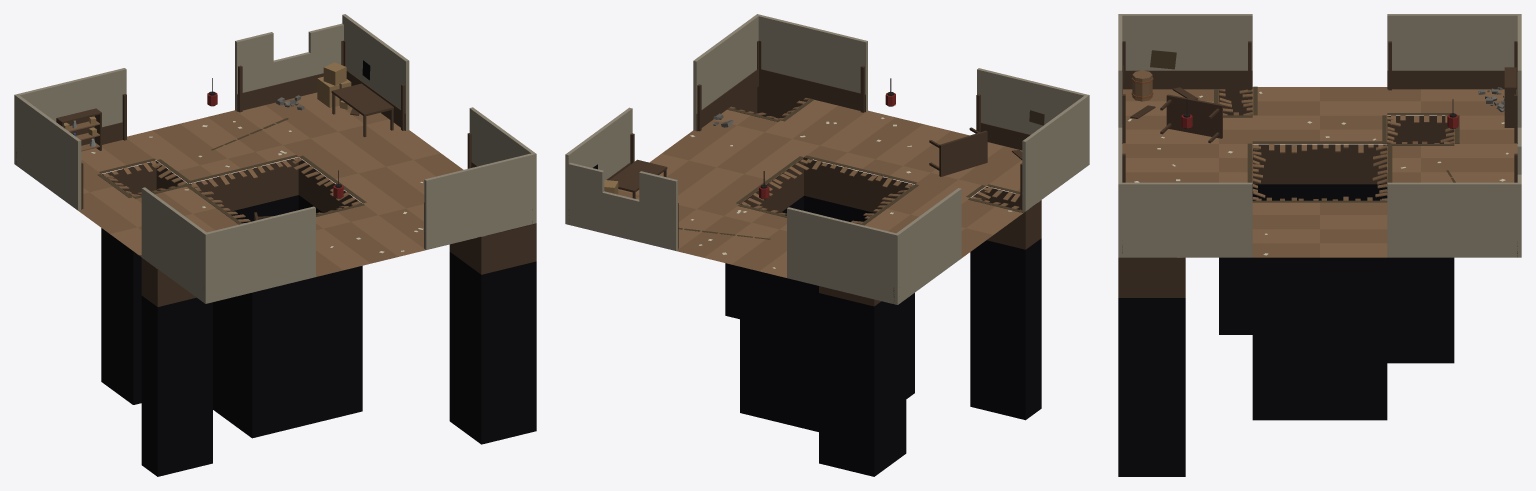
File: O_C_pit.fbx
3 renders of one model, left to right at view 1: azimuth 30°, elevation 25°; view 2: azimuth 150°, elevation 25°; view 3: azimuth 270°, elevation 25°, orthographic. The views are drawn at different scales.
Parts seen in each view (by area): view 1: O_C_pit_Deco, O_C_pit; view 2: O_C_pit, O_C_pit_Deco; view 3: O_C_pit, O_C_pit_Deco.
Part boxes in pixels (bbox=[...]): O_C_pit_Deco: bbox=[16, 40, 536, 476]; O_C_pit: bbox=[14, 14, 536, 303]; O_C_pit: bbox=[565, 14, 1089, 304]; O_C_pit_Deco: bbox=[593, 40, 1044, 476]; O_C_pit: bbox=[1118, 14, 1521, 257]; O_C_pit_Deco: bbox=[1118, 41, 1517, 476].
Size of the model in its own units: 2 by 2 by 1.6.
